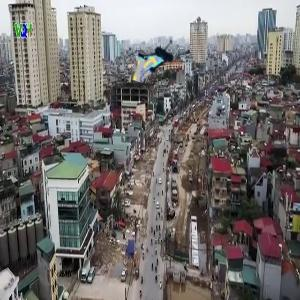drone: (136, 27, 199, 90)
